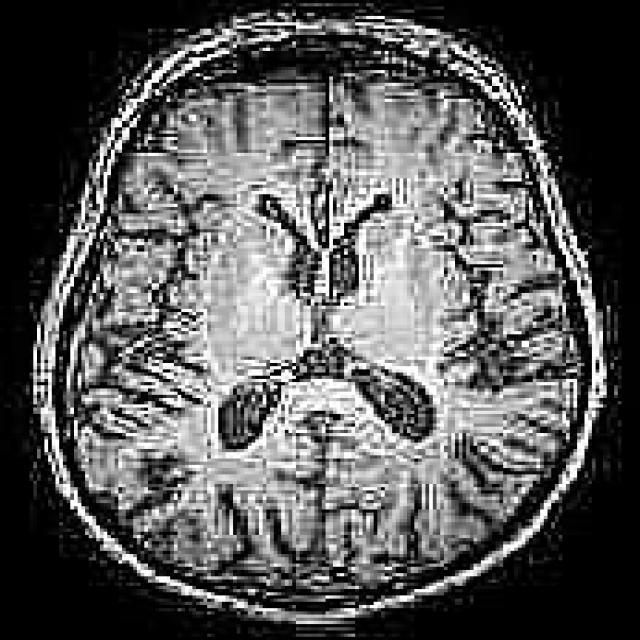notumor: (37, 16, 603, 618)
